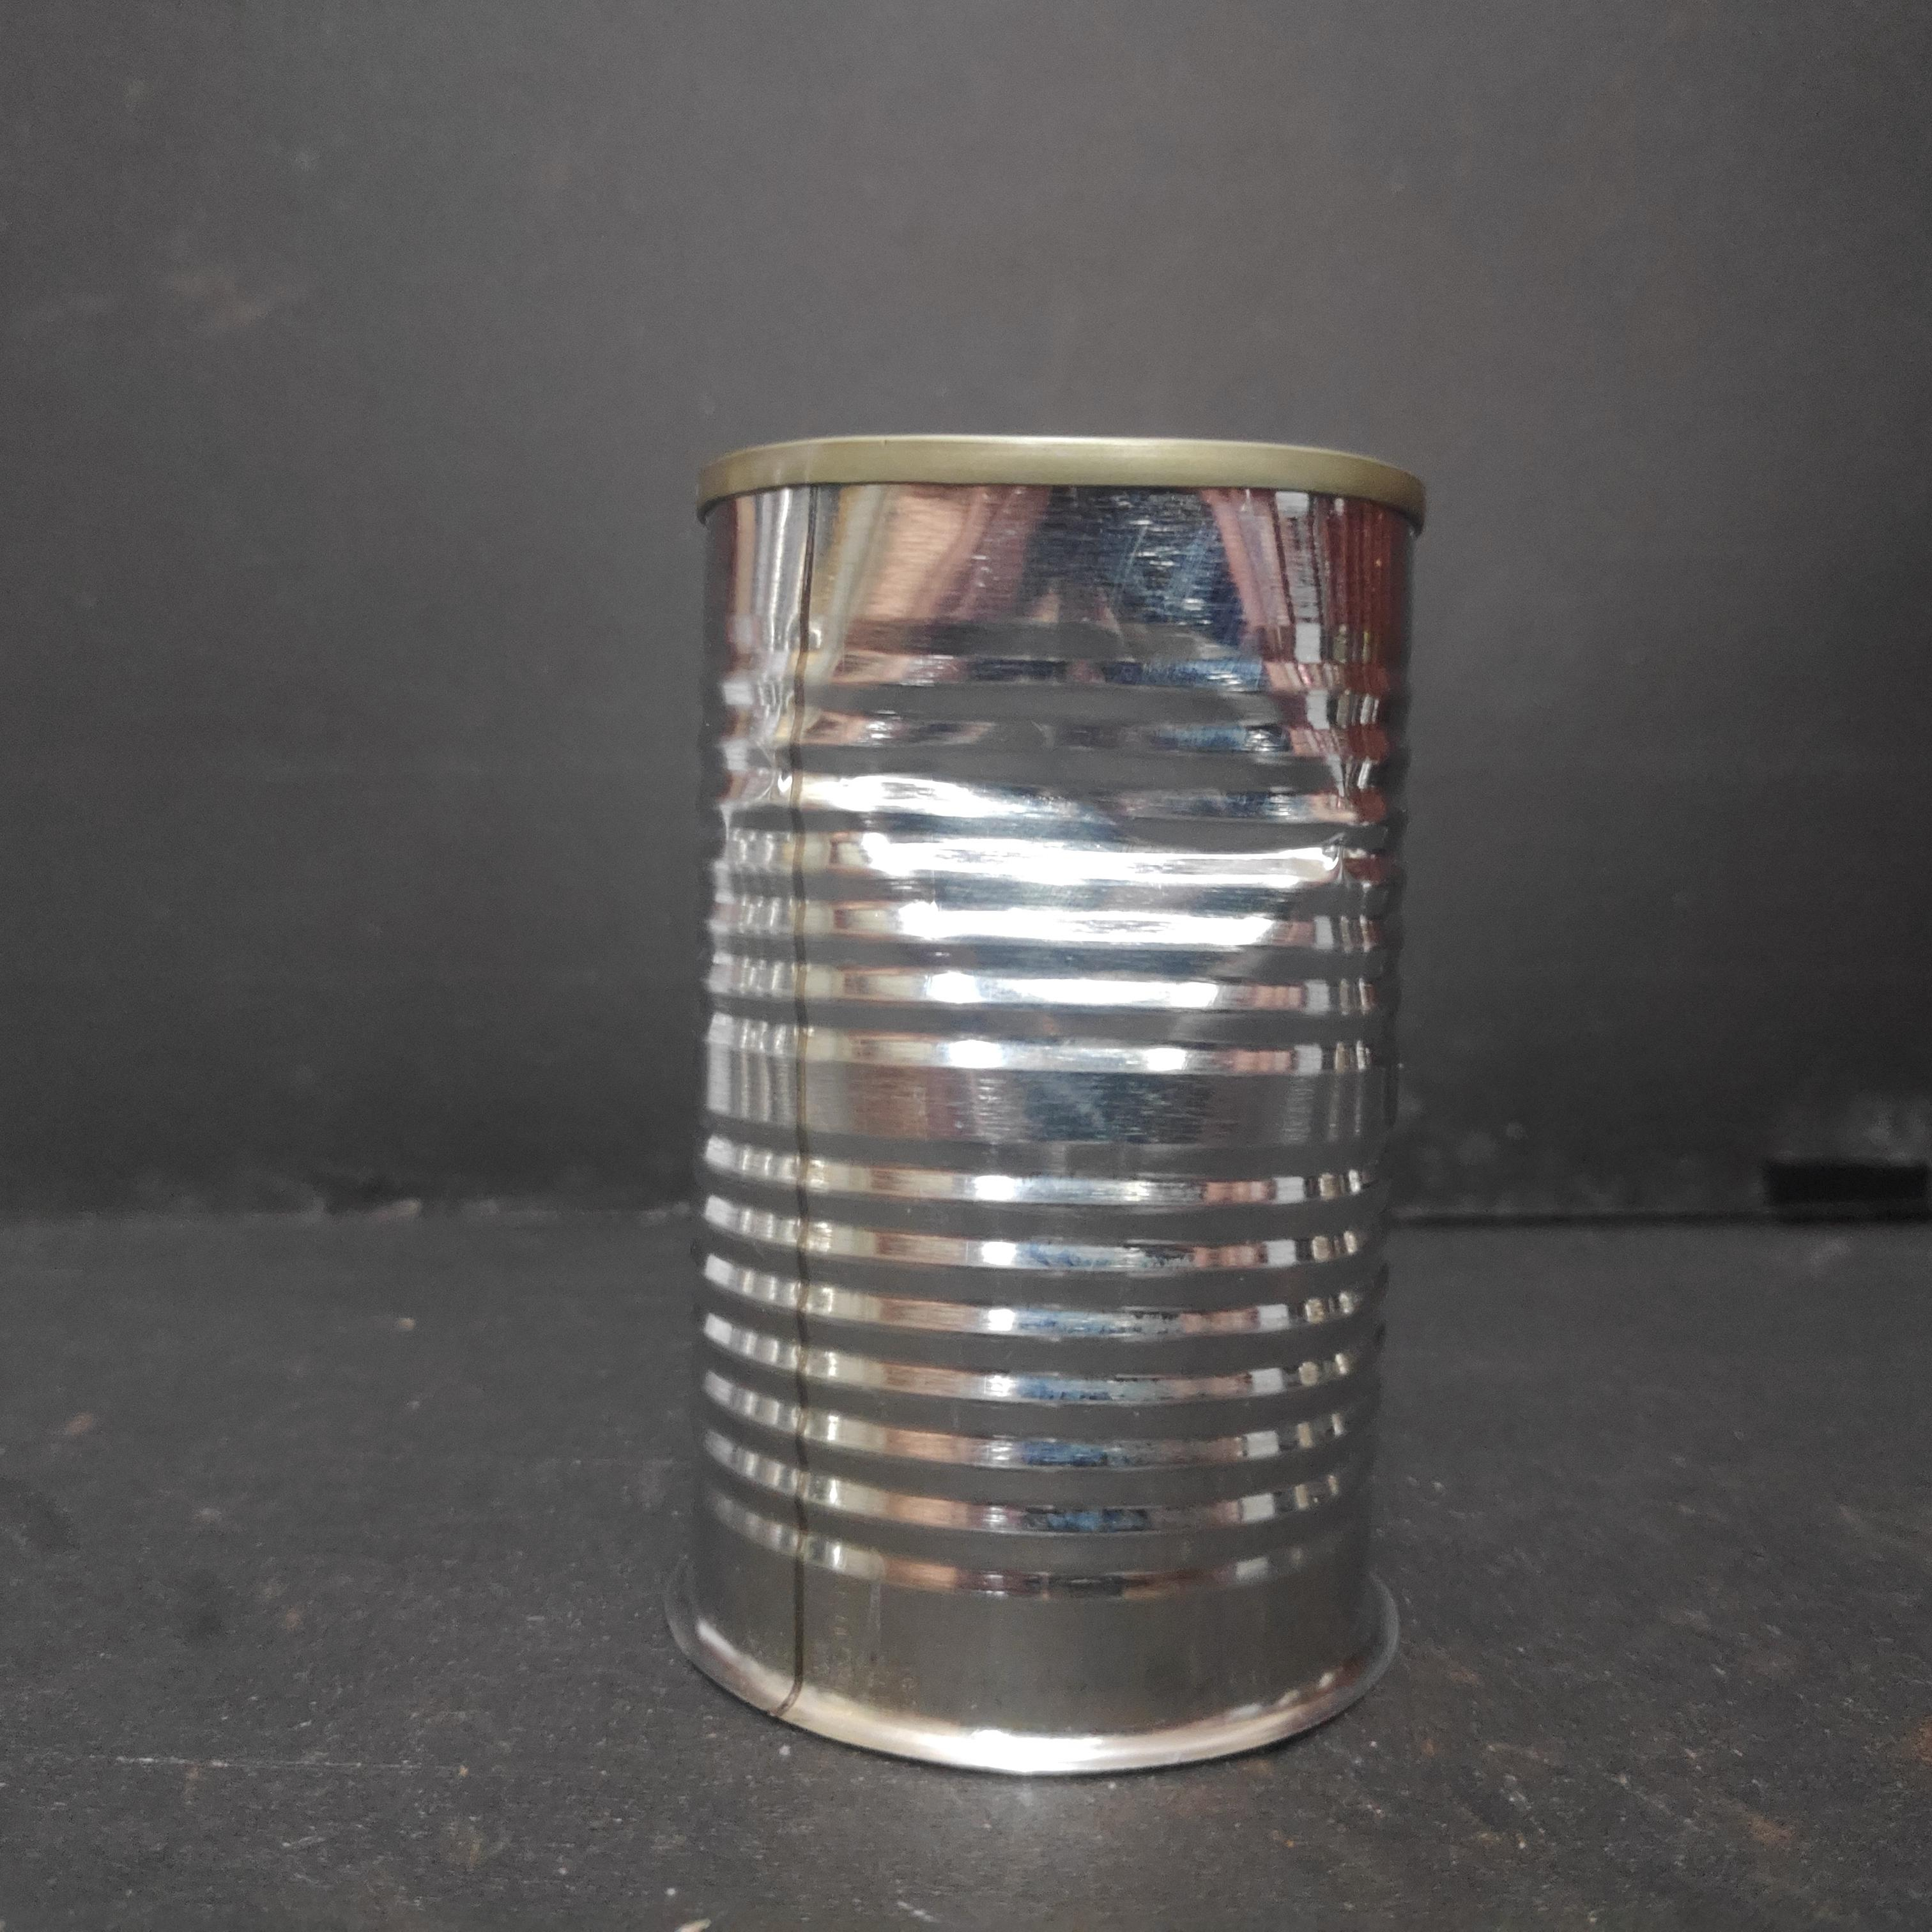Minor Defect: (678, 423, 1440, 1794)
